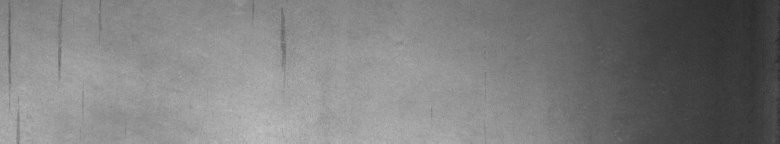ka: (4, 6, 63, 136)
